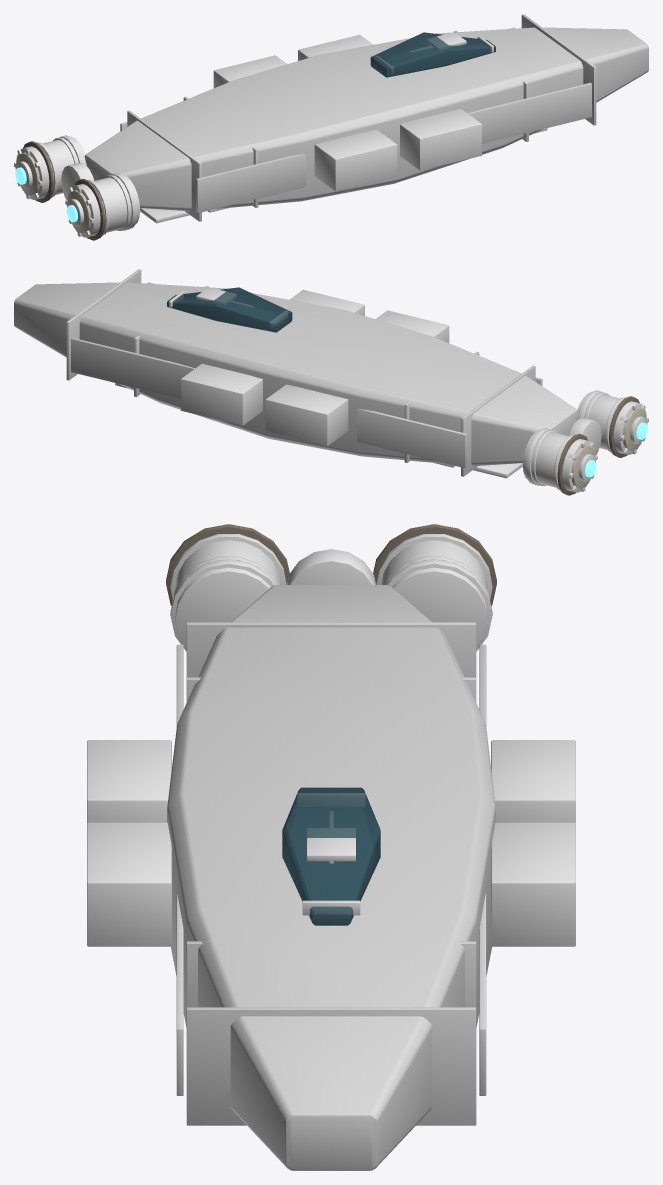
Rendered from ore_barge_production_v1_lod1.glb.
3 renders of one model, top to bottom at view 1: azimuth 30°, elevation 25°; view 2: azimuth 150°, elevation 25°; view 3: azimuth 270°, elevation 25°, orthographic. The views are drawn at different scales.
Parts seen in each view (by area): view 1: LOD1_Hull, LOD1_Armor, LOD1_Mechanical, LOD1_Canopy, LOD1_Ceramic, LOD1_Radiator; view 2: LOD1_Hull, LOD1_Armor, LOD1_Mechanical, LOD1_Canopy, LOD1_Ceramic, LOD1_Radiator; view 3: LOD1_Hull, LOD1_Armor, LOD1_Mechanical, LOD1_Canopy, LOD1_Radiator.
Boxes of the visible parts, left/top/right/bottom form: LOD1_Hull: left=84, top=14, right=648, bottom=221; LOD1_Armor: left=36, top=32, right=493, bottom=236; LOD1_Mechanical: left=14, top=137, right=189, bottom=237; LOD1_Canopy: left=370, top=32, right=495, bottom=77; LOD1_Ceramic: left=15, top=152, right=91, bottom=233; LOD1_Radiator: left=23, top=141, right=105, bottom=240; LOD1_Hull: left=14, top=269, right=578, bottom=476; LOD1_Armor: left=169, top=287, right=626, bottom=491; LOD1_Mechanical: left=473, top=392, right=648, bottom=492; LOD1_Canopy: left=167, top=287, right=292, bottom=332; LOD1_Ceramic: left=571, top=407, right=647, bottom=488; LOD1_Radiator: left=557, top=396, right=639, bottom=495; LOD1_Hull: left=167, top=585, right=495, bottom=1170; LOD1_Armor: left=87, top=534, right=575, bottom=946; LOD1_Mechanical: left=175, top=524, right=487, bottom=648; LOD1_Canopy: left=282, top=787, right=380, bottom=925; LOD1_Radiator: left=166, top=524, right=496, bottom=605.
Size of what is drawn, in the model's own units: 19.98 by 3.35 by 7.14.
